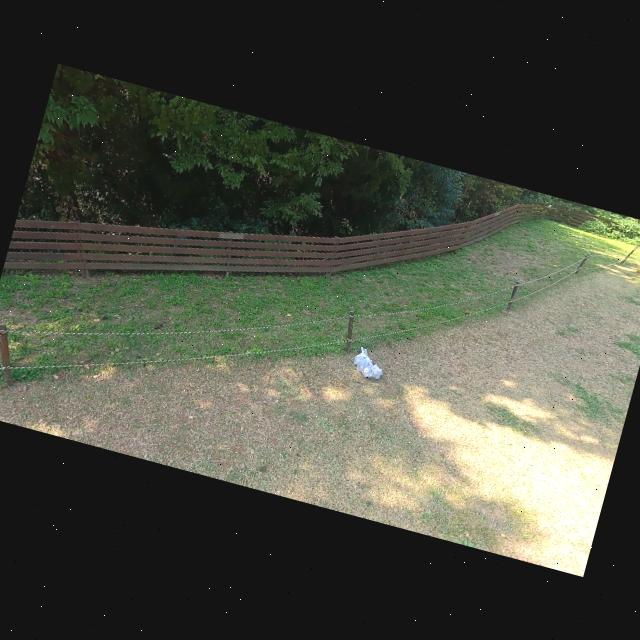trash: (348, 344, 374, 368), (354, 353, 378, 378), (361, 361, 384, 382)
